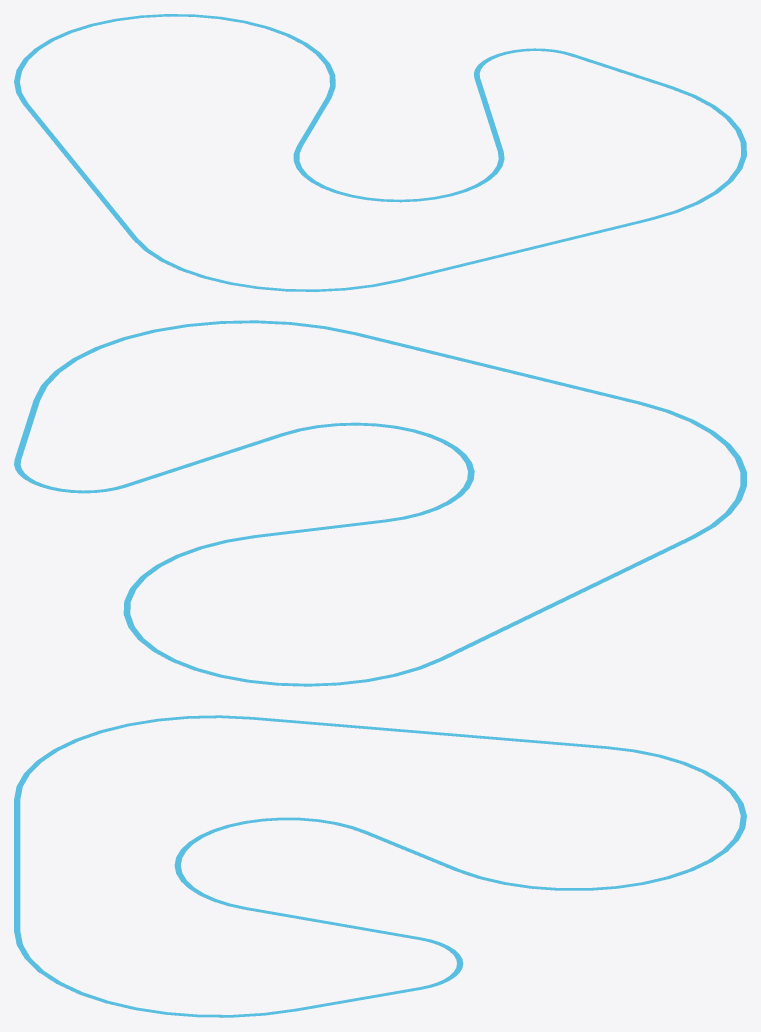
File: blue_track.dae
The picture shows the model from 3 angles, top to bottom: view 1: azimuth 30°, elevation 25°; view 2: azimuth 150°, elevation 25°; view 3: azimuth 270°, elevation 25°; orthographic projection. The views are drawn at different scales.
Visible parts, largest first — view 1: track_0000063807; view 2: track_0000063807; view 3: track_0000063807.
Part boxes in pixels (x1=…): track_0000063807: x1=14, y1=14, x2=746, y2=291; track_0000063807: x1=14, y1=320, x2=746, y2=686; track_0000063807: x1=14, y1=715, x2=746, y2=1017.
Size of the model in its own units: 2.73 by 2.8 by 0.00015.
